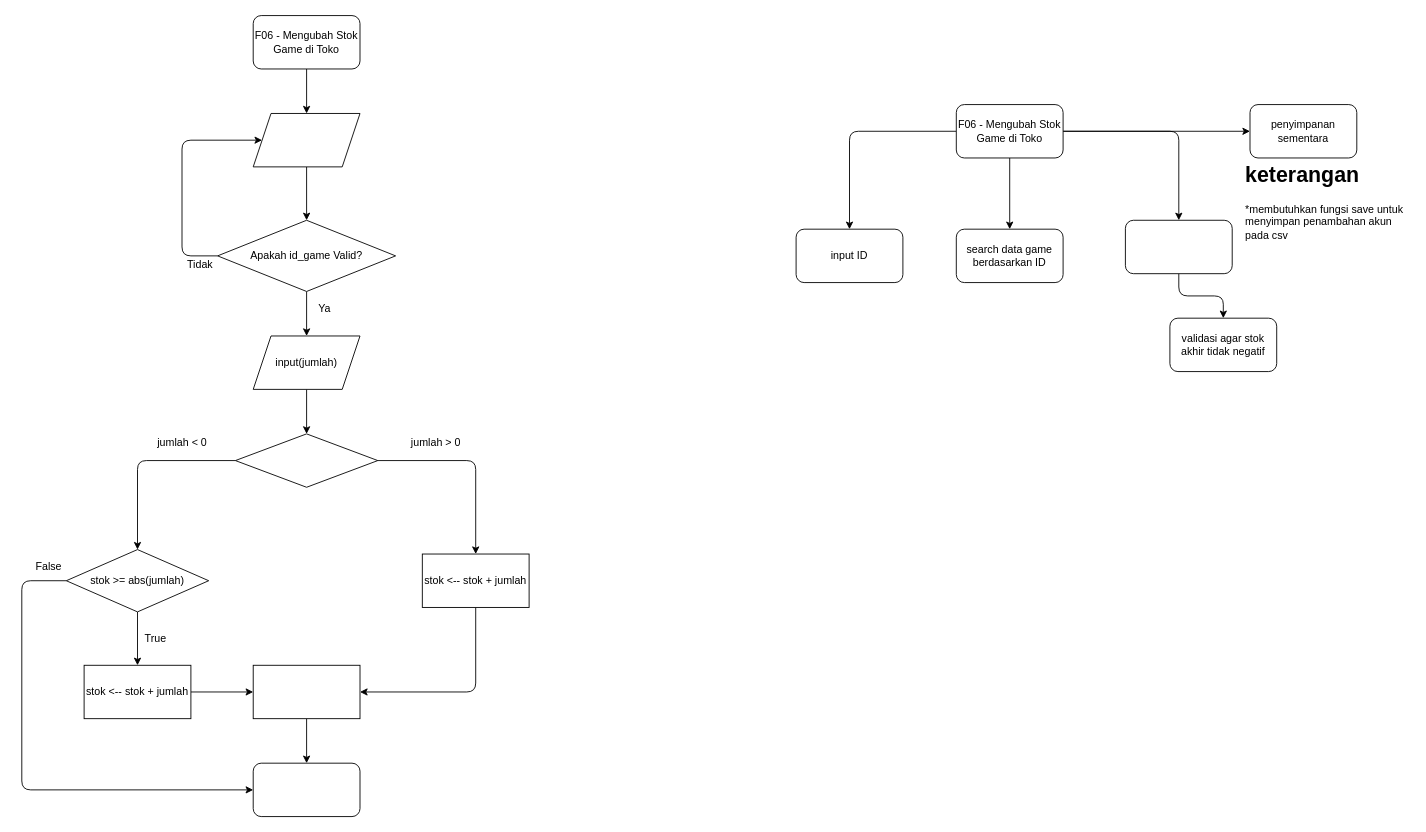
Some shapes in this 1426 by 832 pixel diagram are drawn without their labels. The shapes that lost their labels are listed below. From the top down, each one's box as (x1, y1, x2, y2) in pixels, then its label:
(252, 113, 360, 167): input(id_game)
(1125, 219, 1232, 274): mengubah stok
(235, 433, 378, 487): jumlah?
(252, 664, 360, 719): Perbaharui data di game.csv
(252, 762, 360, 817): Return
